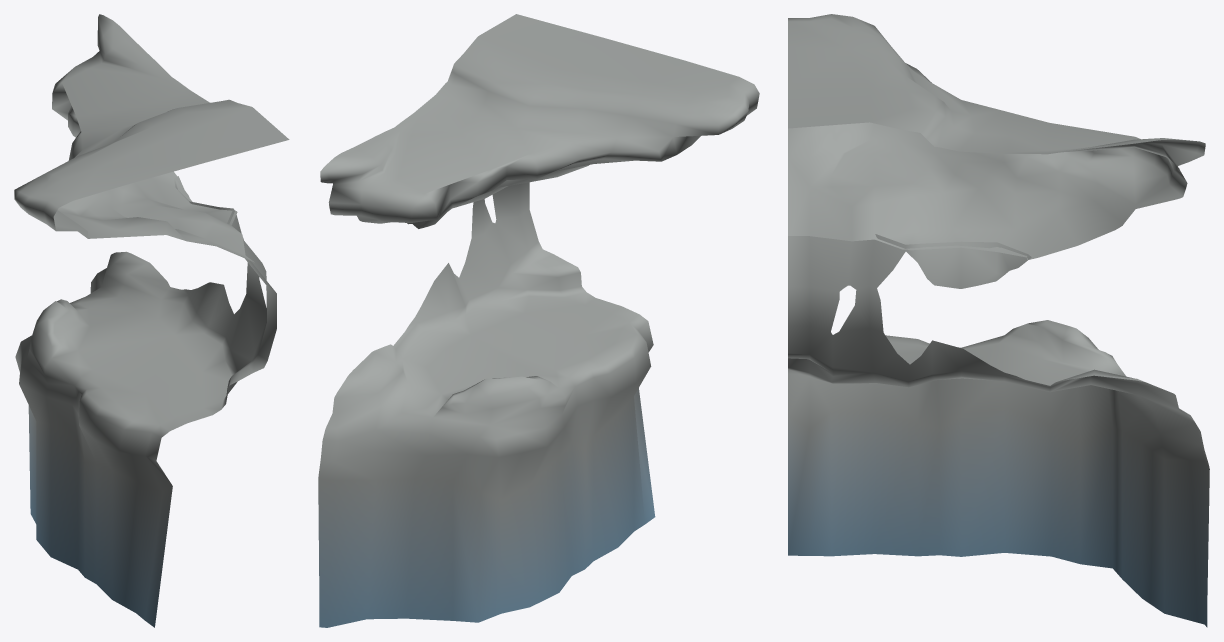
3 views of the same model, side by side, from view 1: azimuth 30°, elevation 25°; view 2: azimuth 150°, elevation 25°; view 3: azimuth 270°, elevation 25° (orthographic). The views are drawn at different scales.
Visible parts, largest first — view 1: G:\FFXIV-MapTools\exports\w1f1\bg\ffxiv\wil_w1\fld\w1f1\bgpl (×6); view 2: G:\FFXIV-MapTools\exports\w1f1\bg\ffxiv\wil_w1\fld\w1f1\bgpl (×6); view 3: G:\FFXIV-MapTools\exports\w1f1\bg\ffxiv\wil_w1\fld\w1f1\bgpl (×6).
Boxes of the visible parts, left/top/right/bottom form: G:\FFXIV-MapTools\exports\w1f1\bg\ffxiv\wil_w1\fld\w1f1\bgpl (×6): left=14, top=14, right=289, bottom=627; G:\FFXIV-MapTools\exports\w1f1\bg\ffxiv\wil_w1\fld\w1f1\bgpl (×6): left=318, top=14, right=759, bottom=627; G:\FFXIV-MapTools\exports\w1f1\bg\ffxiv\wil_w1\fld\w1f1\bgpl (×6): left=788, top=14, right=1209, bottom=627.
Size of the model in its own units: 28.73 by 51.55 by 38.98.
